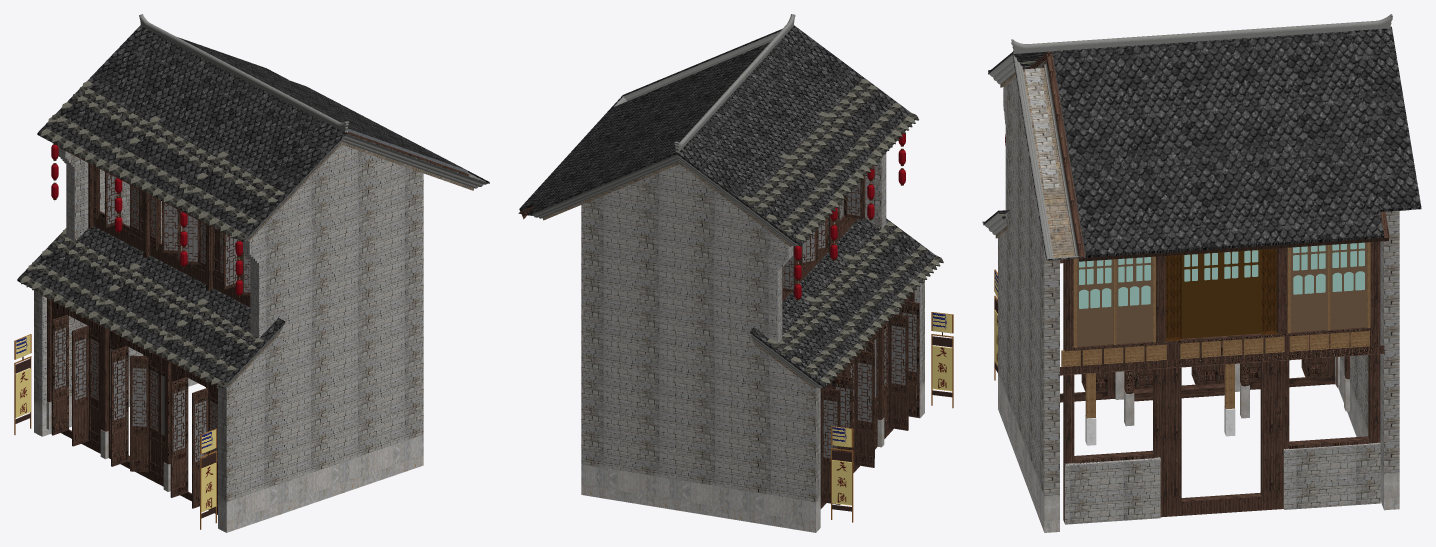
3 renders of one model, left to right at view 1: azimuth 30°, elevation 25°; view 2: azimuth 150°, elevation 25°; view 3: azimuth 270°, elevation 25°, orthographic. The views are drawn at different scales.
Parts seen in each view (by area): view 1: building2; view 2: building2; view 3: building2.
Part boxes in pixels (left/top/right/bottom): building2: left=14, top=14, right=489, bottom=532; building2: left=518, top=14, right=953, bottom=532; building2: left=982, top=14, right=1421, bottom=532.
Bounding box in the file's own units: 17.6 × 18.18 × 16.11.
Materials: 24 (21 with a texture image).
